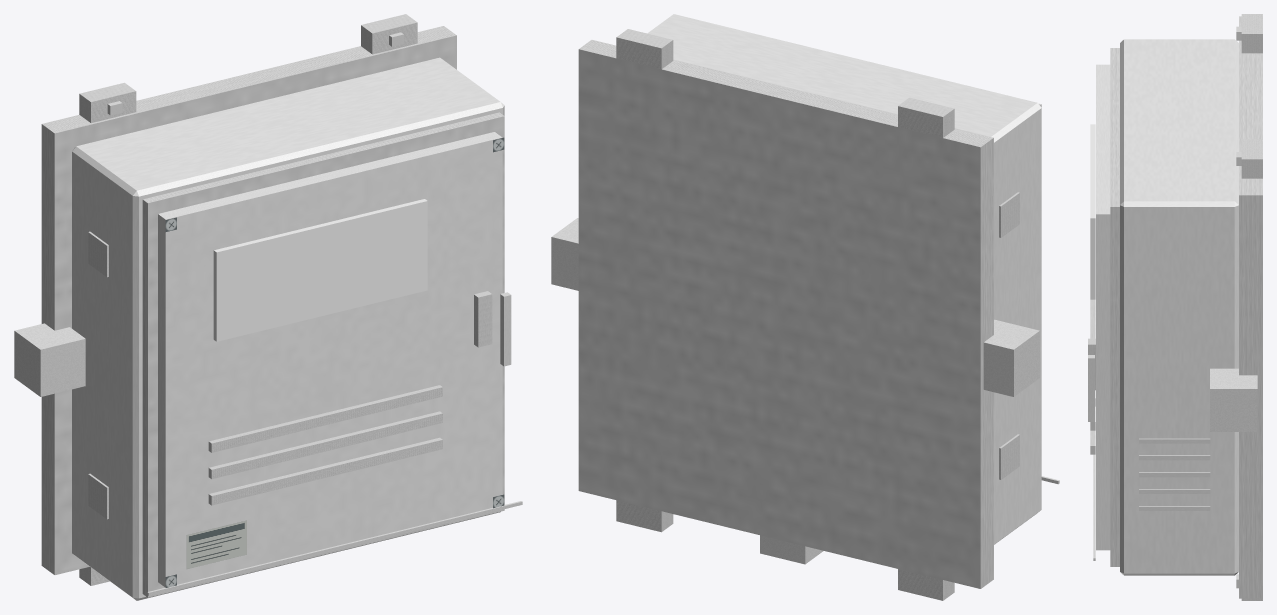
The model's file is wallmppt.obj.
The picture shows the model from 3 angles, left to right: view 1: azimuth 30°, elevation 25°; view 2: azimuth 150°, elevation 25°; view 3: azimuth 270°, elevation 25°; orthographic projection. The views are drawn at different scales.
Parts seen in each view (by area): view 1: Case, Trim, Display, Solar; view 2: Trim, Case, Solar, Output, Return; view 3: Case, Trim, Output, Display.
Part boxes in pixels (box(x1,y1,x2,y2)): Case: box(72, 57, 504, 600); Trim: box(41, 14, 522, 597); Display: box(213, 199, 427, 341); Solar: box(14, 323, 85, 396); Trim: box(578, 29, 1059, 600); Case: box(647, 14, 1041, 544); Solar: box(983, 319, 1039, 396); Output: box(551, 218, 578, 290); Return: box(760, 535, 823, 564); Case: box(1096, 39, 1238, 575); Trim: box(1088, 14, 1262, 600); Output: box(1210, 368, 1257, 431); Display: box(1090, 124, 1095, 299).
Bounding box in the file's own units: 0.92 × 0.92 × 0.33.
